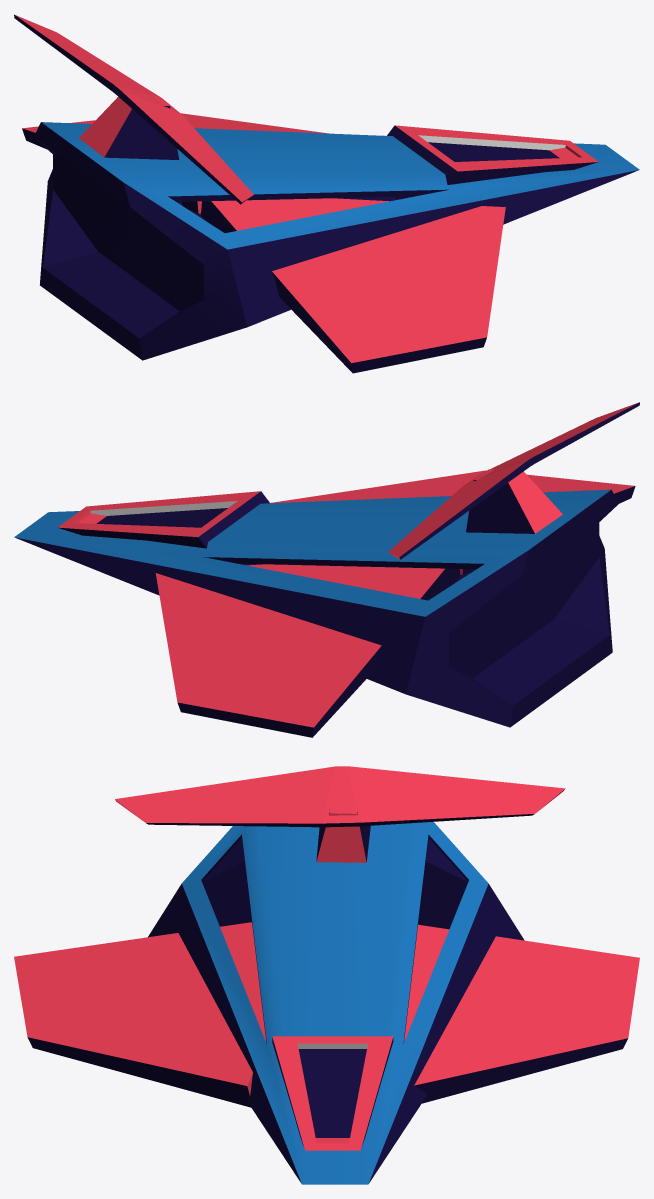
File: Spaceship.fbx
3 renders of one model, top to bottom at view 1: azimuth 30°, elevation 25°; view 2: azimuth 150°, elevation 25°; view 3: azimuth 270°, elevation 25°, orthographic. The views are drawn at different scales.
Parts seen in each view (by area): view 1: Body, Plane.001, Cube.001, Plane.002, Cube; view 2: Body, Plane.001, Cube.001, Plane.002, Cube; view 3: Body, Plane.001, Plane.002, Cube.001, Cube.
Boxes of the visible parts, x1,y1,x2,y2 form: Body: (34, 122, 639, 360); Plane.001: (22, 113, 505, 373); Cube.001: (387, 125, 598, 199); Plane.002: (14, 14, 253, 204); Cube: (79, 95, 179, 159); Body: (14, 489, 618, 727); Plane.001: (155, 470, 635, 737); Cube.001: (58, 491, 269, 565); Plane.002: (388, 402, 639, 559); Cube: (466, 469, 562, 533); Body: (148, 822, 524, 1184); Plane.001: (14, 922, 639, 1107); Plane.002: (115, 766, 565, 827); Cube.001: (272, 1036, 393, 1150); Cube: (316, 808, 370, 862).
Size of the model in its own units: 3.57 by 1.43 by 3.73.
